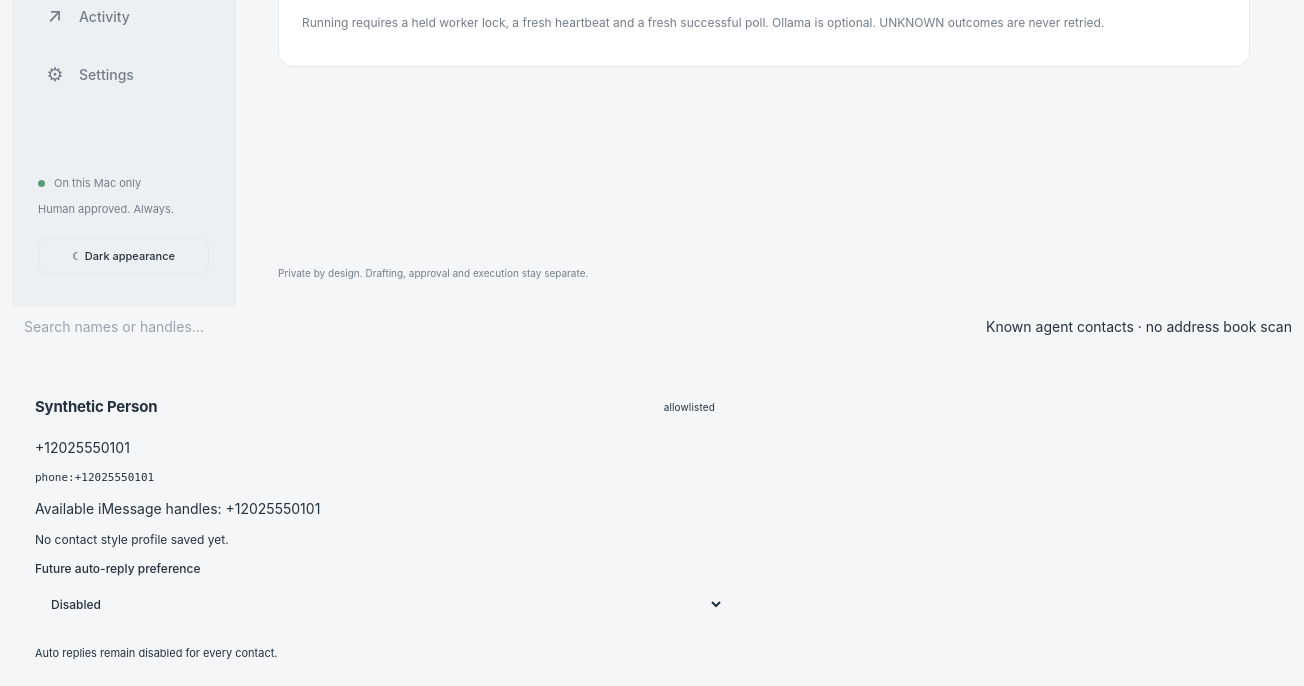
it: contacts search displays canonical identities
(page scrolled)
Expected: the heading "Synthetic Person" is shown, [35, 396, 157, 419]
Expected: the text "phone:+12025550101" is shown, [35, 471, 154, 484]
Type "Absent" into the field named "Search contacts".
click(182, 326); type("Absent")  # box [12, 306, 352, 347]
(page scrolled)
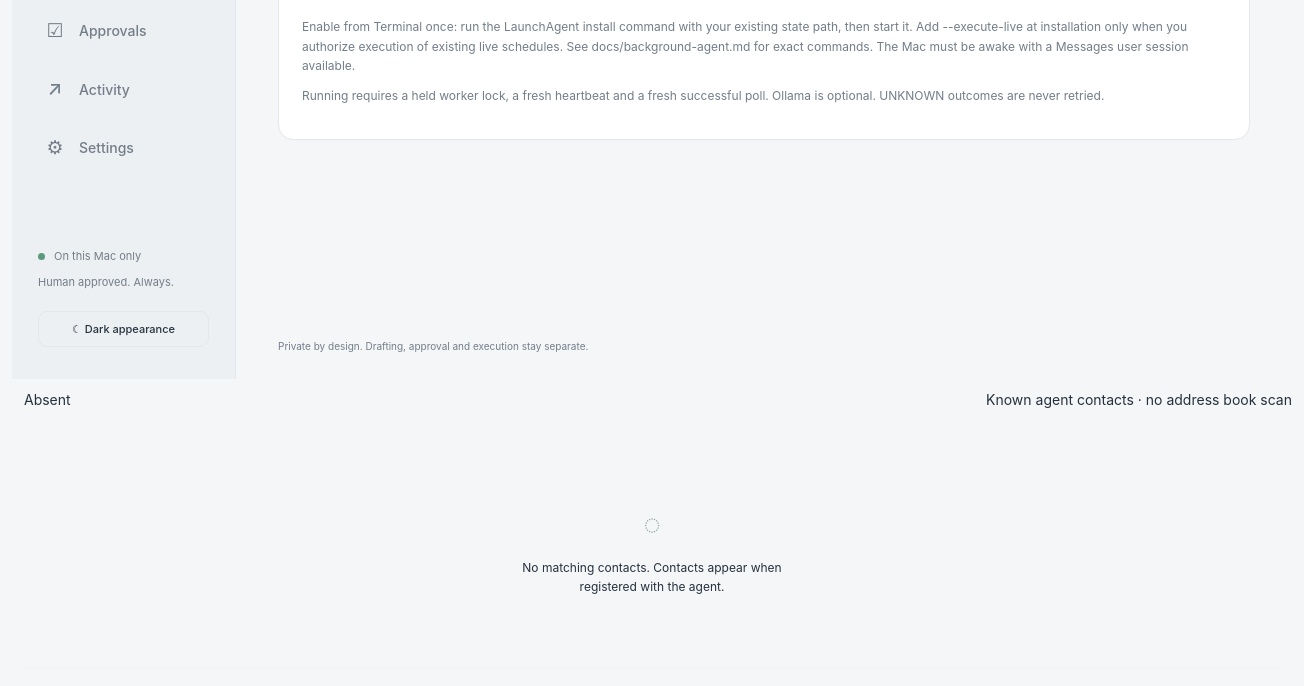
Now the heading "Synthetic Person" is gone
